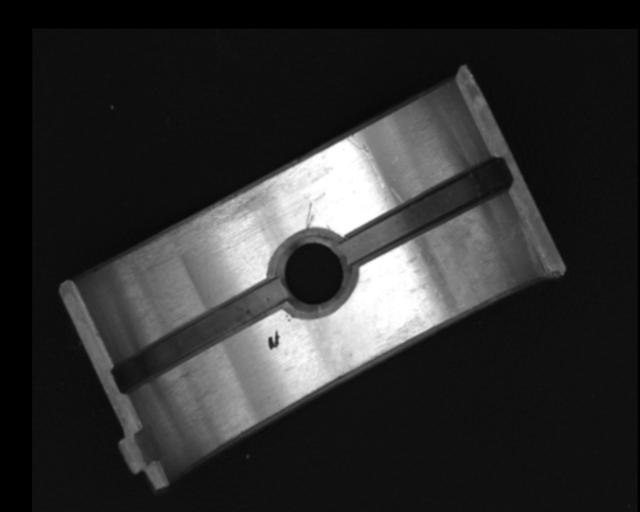blot: (267, 330, 280, 351)
gap: (111, 281, 283, 393), (343, 160, 512, 263)
hole: (269, 230, 356, 316)
nick: (346, 134, 386, 190), (305, 202, 314, 228)
scratch: (117, 177, 278, 265)
